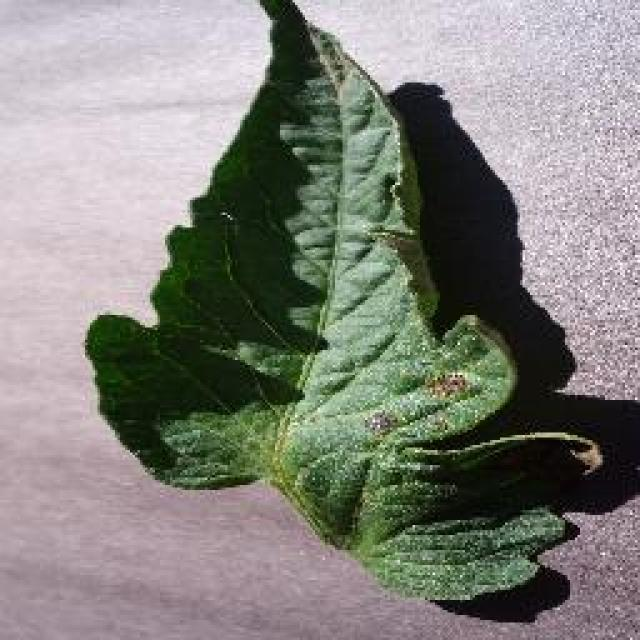Tomato Early blight leaf: (98, 4, 592, 636)
